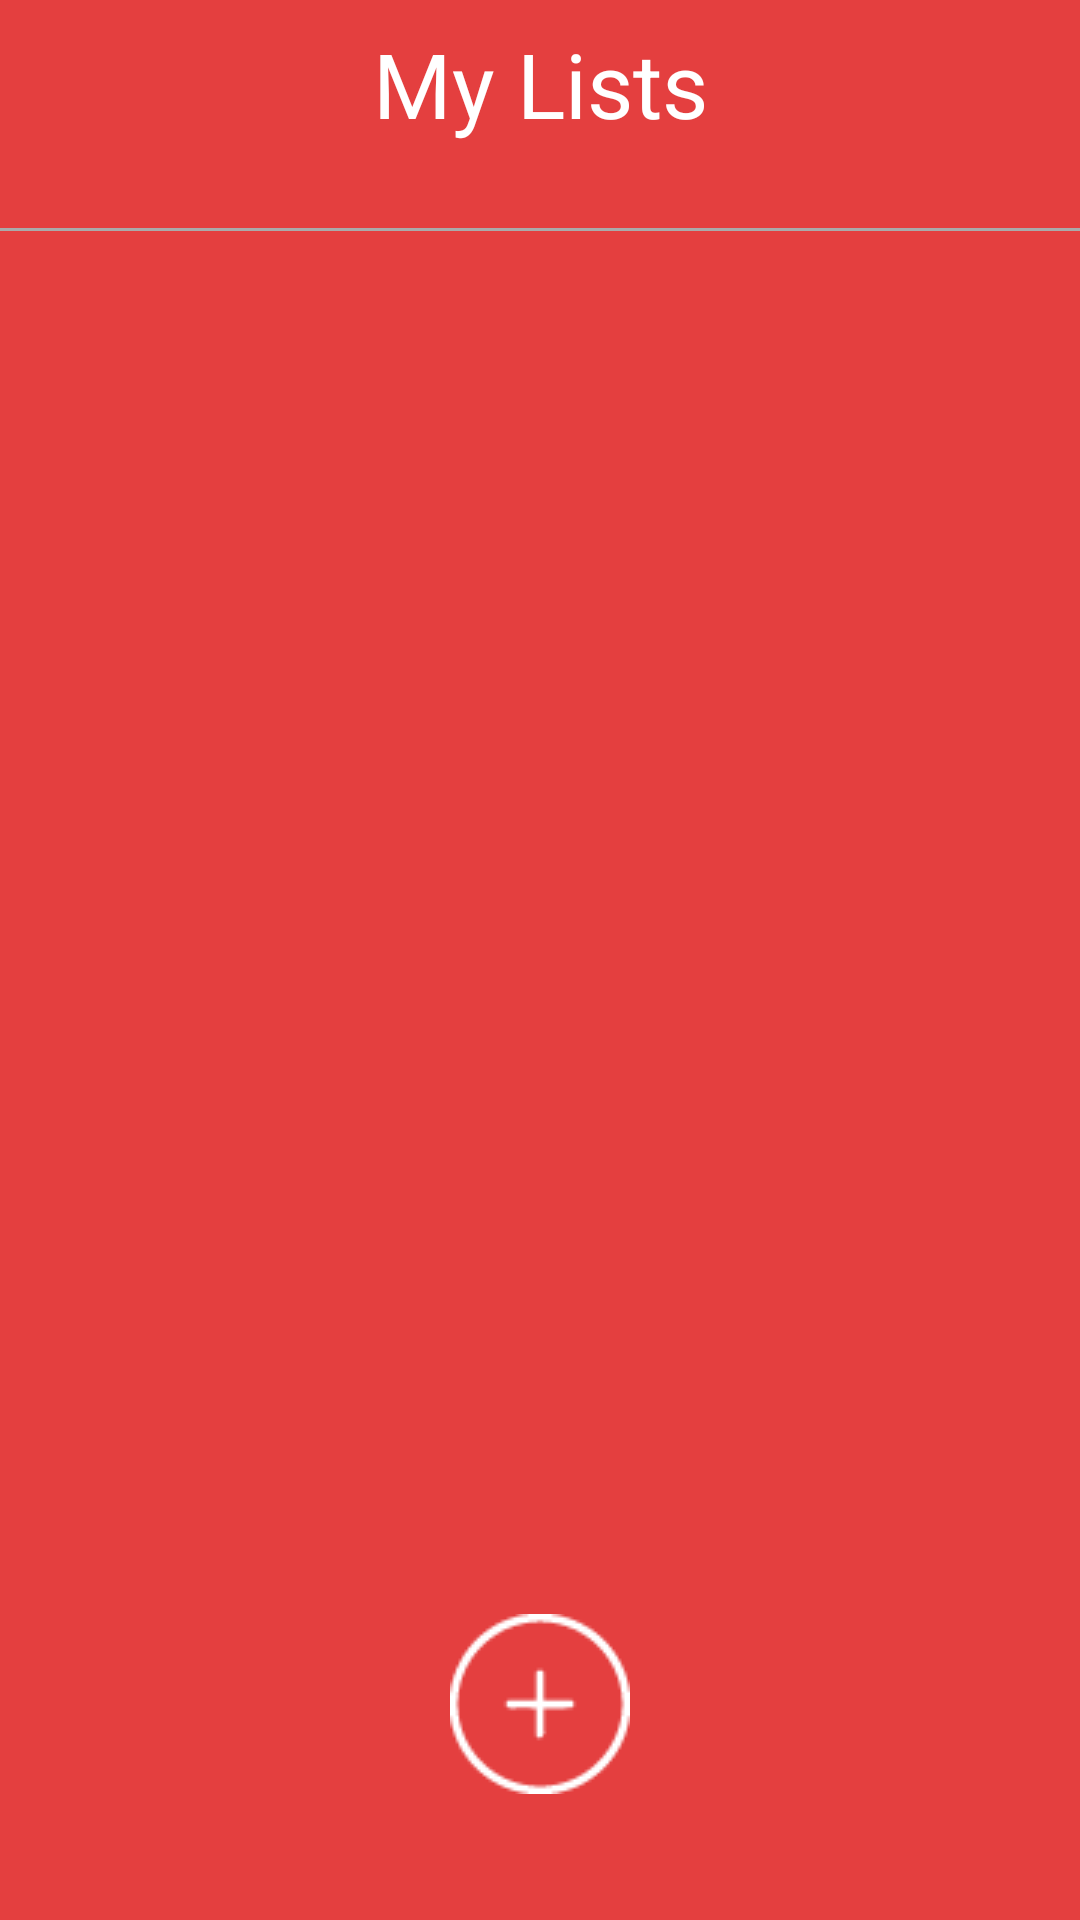

Icons on this 1080w x 1920h Android screen, each with the point to tap as point (x, y):
add: point (540, 1704)
